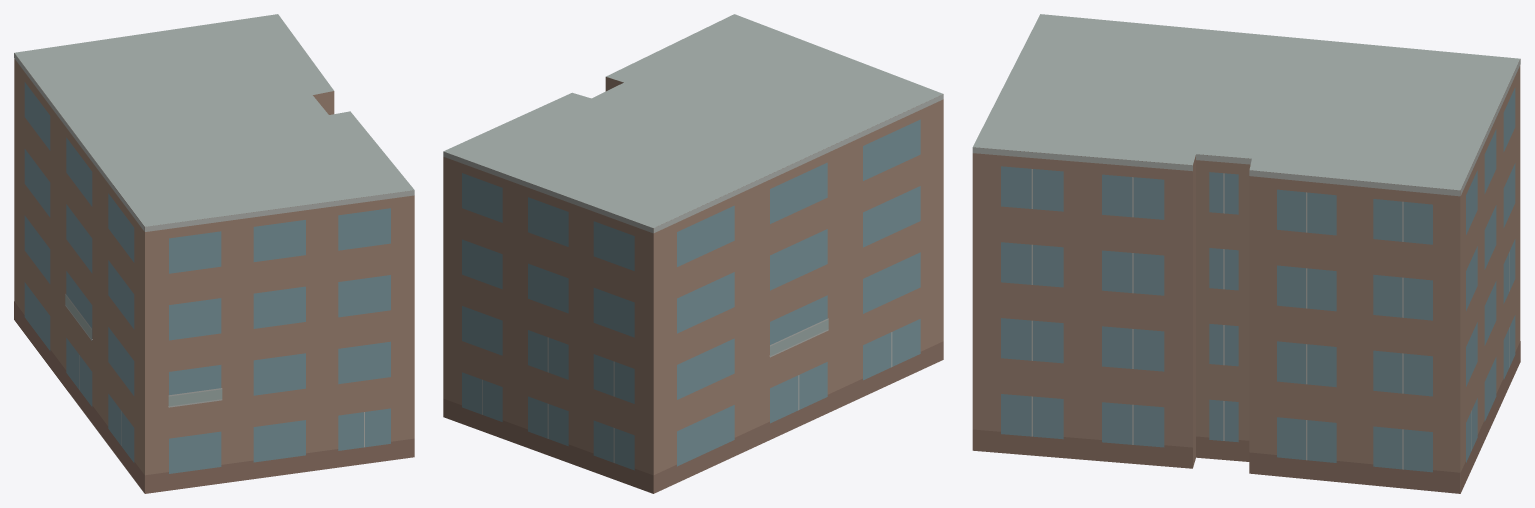
Rendered from survey-upis-32686288.glb.
3 renders of one model, left to right at view 1: azimuth 30°, elevation 25°; view 2: azimuth 150°, elevation 25°; view 3: azimuth 270°, elevation 25°, orthographic. The views are drawn at different scales.
Parts seen in each view (by area): view 1: survey-upis-32686288.tmp; view 2: survey-upis-32686288.tmp; view 3: survey-upis-32686288.tmp.
Boxes of the visible parts, x1,y1,x2,y2 form: survey-upis-32686288.tmp: (14,14,414,493); survey-upis-32686288.tmp: (443,14,943,493); survey-upis-32686288.tmp: (972,14,1520,493).
Bounding box in the file's own units: 15.47 × 12.4 × 20.3.
